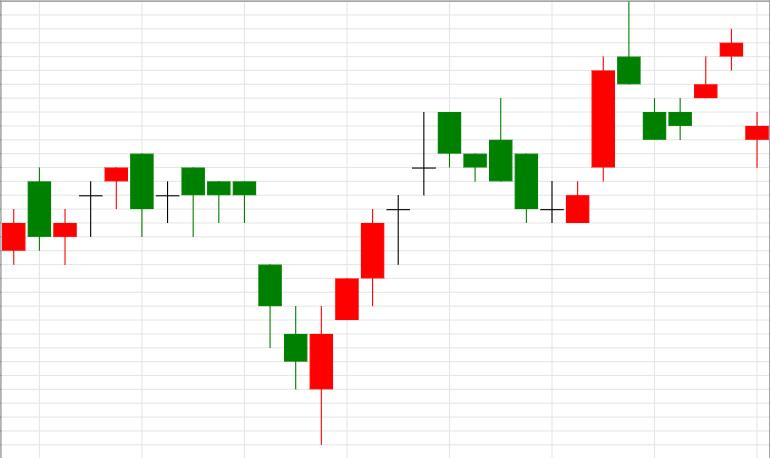shooting_star_fall: (541, 1, 641, 223)
three_white_soldiers_rise: (181, 167, 384, 445)
